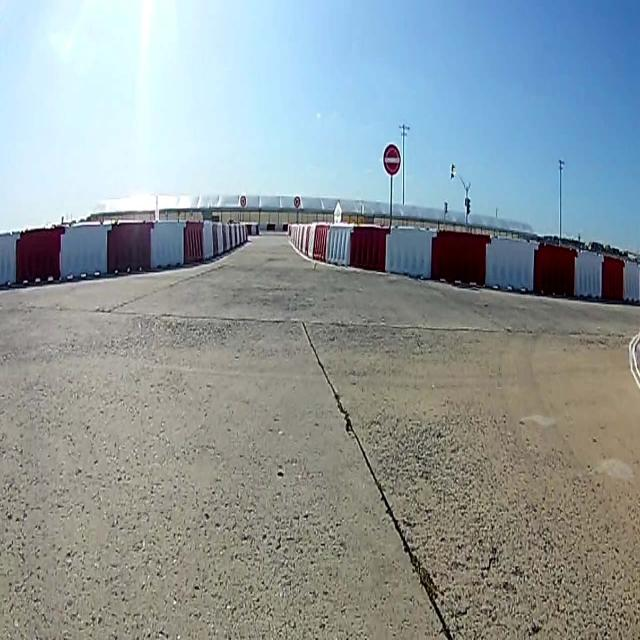girisyok: (384, 146, 400, 172)
